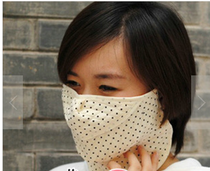face_mask: (61, 40, 156, 157)
